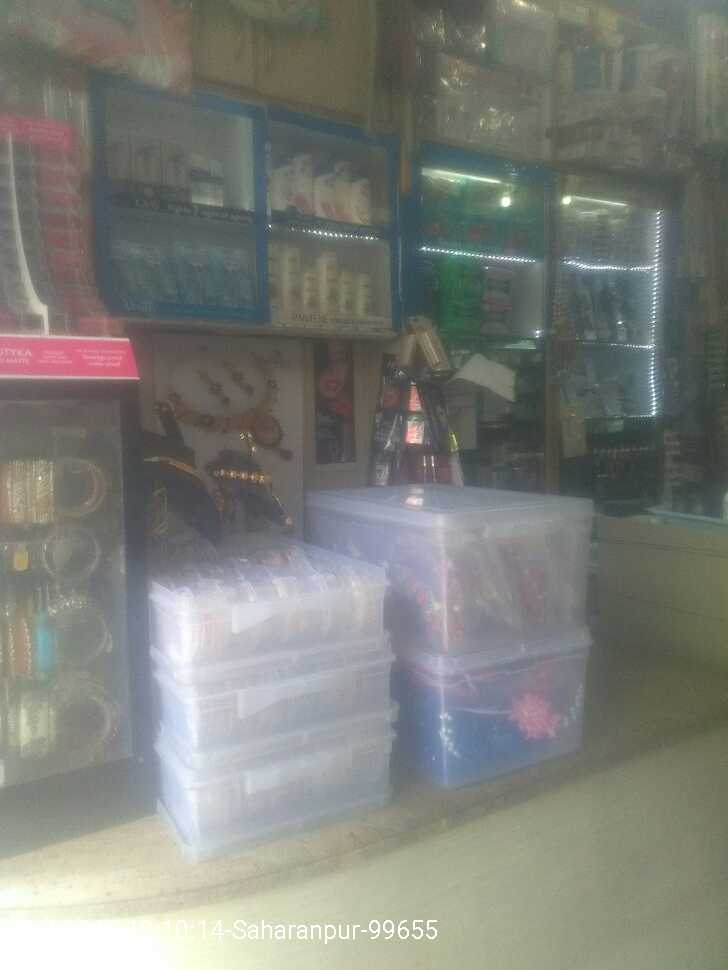venus: (175, 241, 215, 305), (216, 246, 256, 307), (138, 243, 174, 302), (112, 242, 134, 297)
